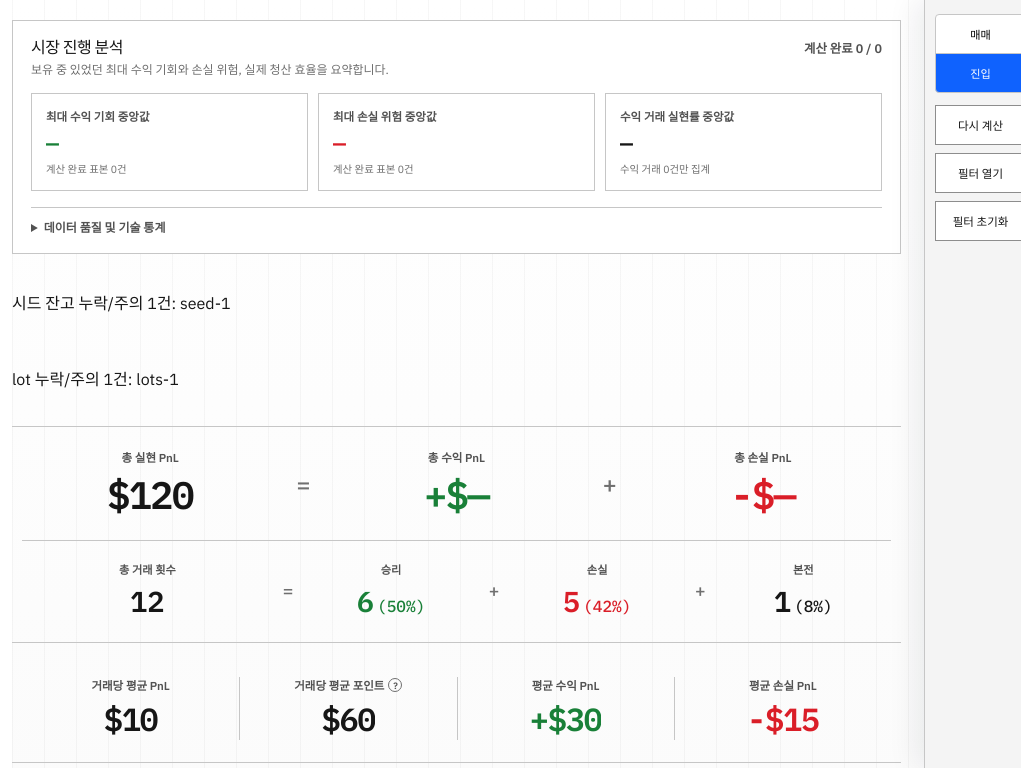
Test: StatsPage › restores cached unit and dates while refreshing a checked today date
This screenshot has width=1036, height=768.
Click the button "필터 열기" at [980, 173], box [935,153,1026,193]
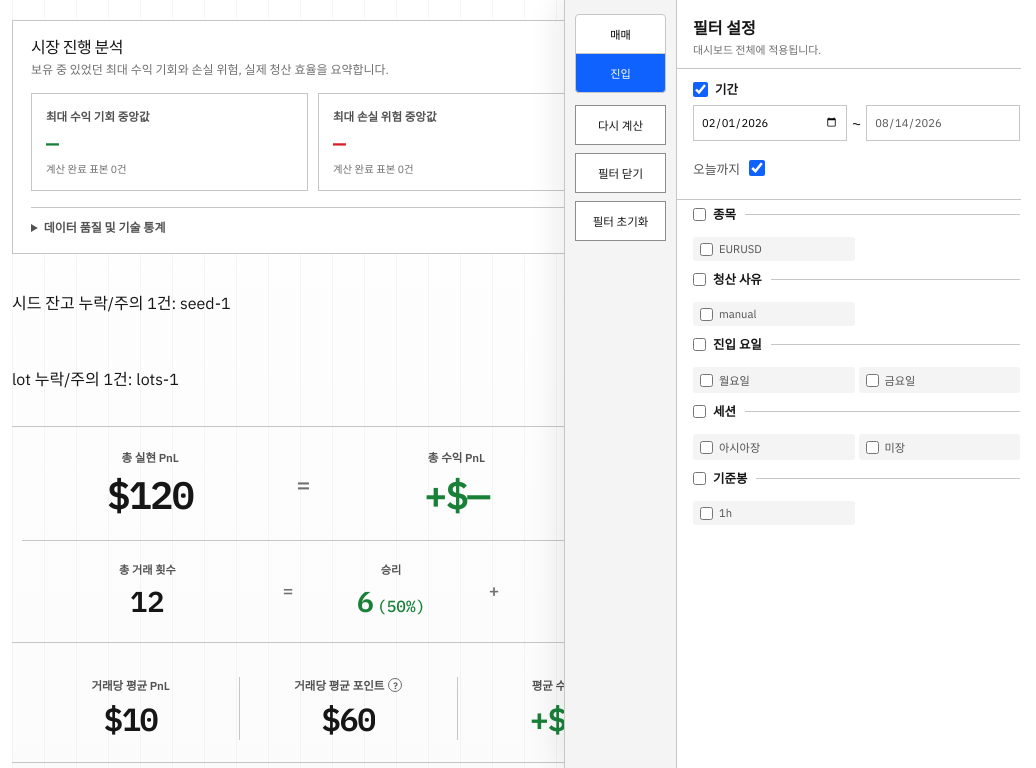
Expected: the date field named "시작일" holds "2026-02-01", [693,105,847,141]
Expected: the date field named "종료일" does not hold "2020-01-01", [866,105,1020,141]
